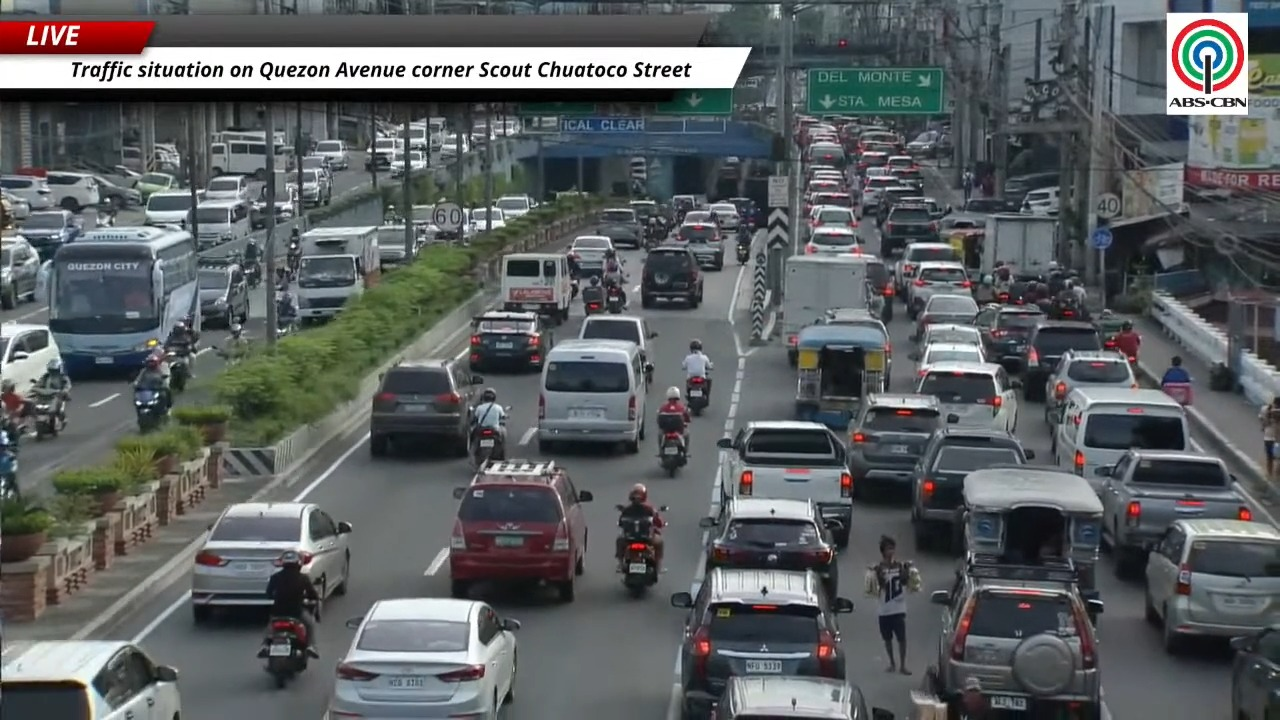bus: (37, 226, 199, 376), (209, 131, 266, 180), (211, 128, 265, 142)
car: (670, 568, 852, 717), (930, 562, 1102, 717), (326, 597, 520, 717), (448, 459, 592, 602), (190, 502, 351, 622), (1145, 517, 1279, 653), (910, 423, 1034, 550), (0, 639, 181, 719), (700, 496, 843, 596), (369, 358, 482, 456), (847, 393, 943, 498), (715, 675, 893, 719), (915, 363, 1019, 432), (1045, 350, 1138, 424), (1022, 319, 1103, 400), (468, 310, 554, 370), (973, 305, 1044, 372), (1230, 622, 1279, 719), (0, 322, 60, 393), (907, 261, 977, 320), (577, 314, 657, 364), (640, 245, 703, 308), (893, 242, 958, 300), (197, 258, 249, 327), (20, 209, 82, 260), (880, 204, 940, 256), (668, 218, 727, 270), (0, 236, 39, 309), (913, 294, 978, 337), (875, 176, 923, 227), (912, 343, 987, 375), (45, 171, 101, 212), (0, 174, 54, 210), (596, 207, 643, 248), (568, 235, 614, 276), (822, 309, 889, 337), (901, 195, 951, 231), (91, 175, 141, 210), (143, 190, 192, 225), (857, 174, 896, 217), (804, 226, 861, 254), (292, 169, 332, 206), (919, 323, 981, 345), (134, 172, 180, 201), (808, 205, 857, 232), (205, 175, 252, 201), (313, 139, 349, 170), (1021, 186, 1059, 215), (494, 194, 537, 219), (390, 150, 428, 178), (960, 197, 1017, 215), (0, 191, 32, 222), (708, 202, 741, 232), (805, 191, 854, 211), (939, 213, 985, 234), (302, 154, 333, 183), (468, 208, 506, 231), (726, 197, 757, 224), (855, 149, 888, 172), (891, 167, 923, 190), (805, 176, 843, 194), (682, 209, 717, 225), (886, 155, 917, 171)
motorcycle: (257, 616, 312, 687), (619, 516, 658, 596), (657, 413, 686, 477), (31, 387, 64, 439), (134, 388, 167, 433), (470, 426, 505, 468), (0, 447, 20, 499), (165, 350, 189, 392), (686, 377, 708, 415), (1047, 301, 1088, 320), (581, 286, 604, 315), (605, 286, 624, 313), (286, 244, 301, 277), (245, 261, 261, 289), (276, 316, 296, 337), (736, 242, 751, 265), (643, 362, 654, 387), (643, 234, 659, 251), (571, 278, 579, 300)
truck: (1096, 449, 1252, 575), (717, 420, 852, 548), (779, 255, 869, 363), (296, 226, 381, 323), (980, 213, 1059, 276)
